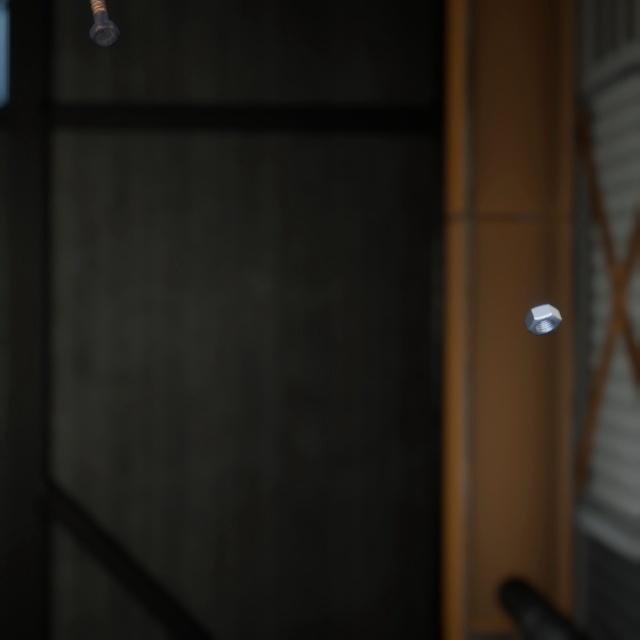bolt: (84, 0, 124, 43)
nut: (519, 281, 566, 322)
